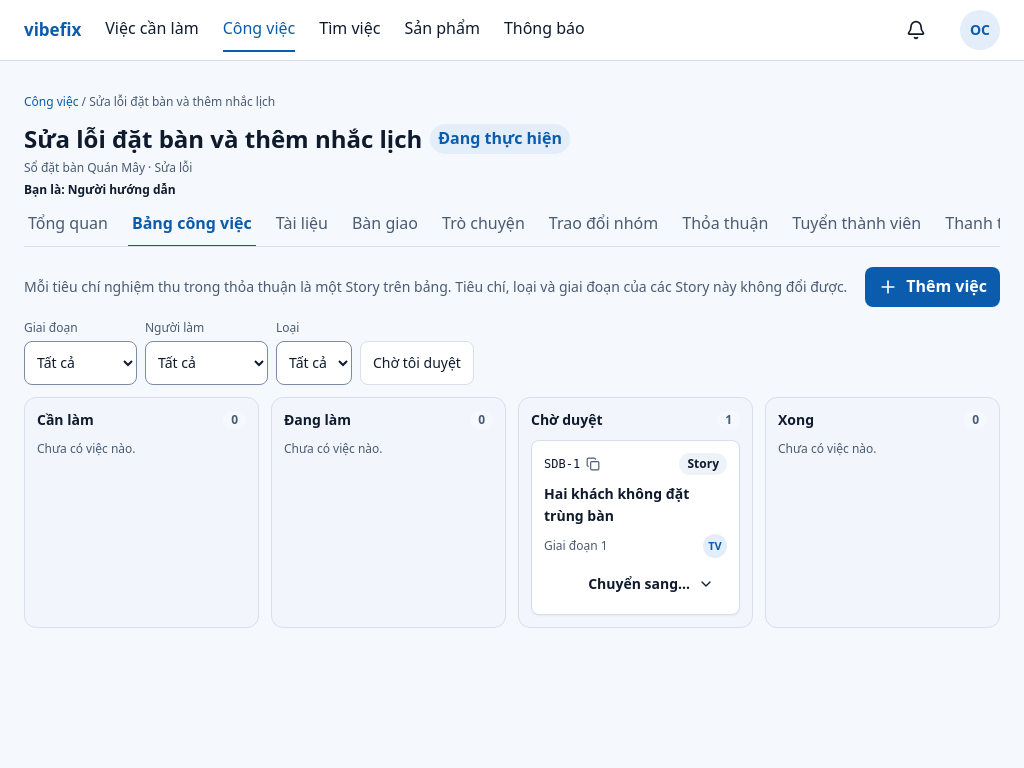
The Review Gate on JOB-2 (FR-25, AD-39, UX-DR38) › shows the Mentor the answers and needs a comment to return or approve
Click the button with aria-label "Chuyển SDB-1 sang…": (651, 584) [575,566,727,602]
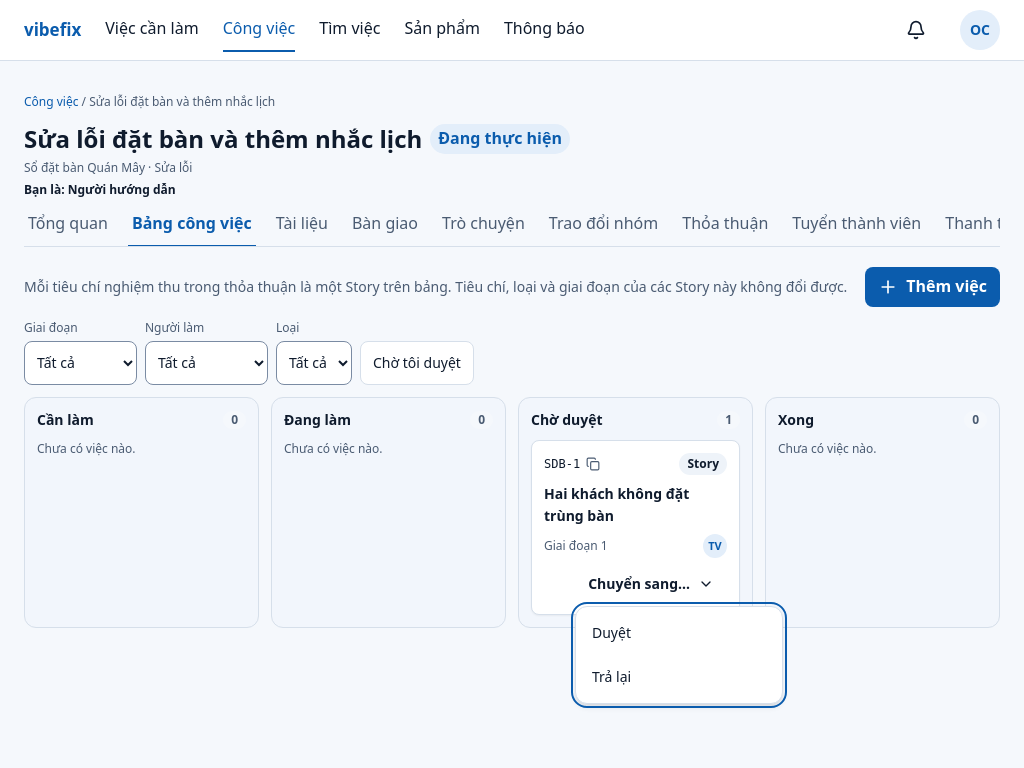
Click the menu item "Trả lại": (612, 677) [592,667,631,686]
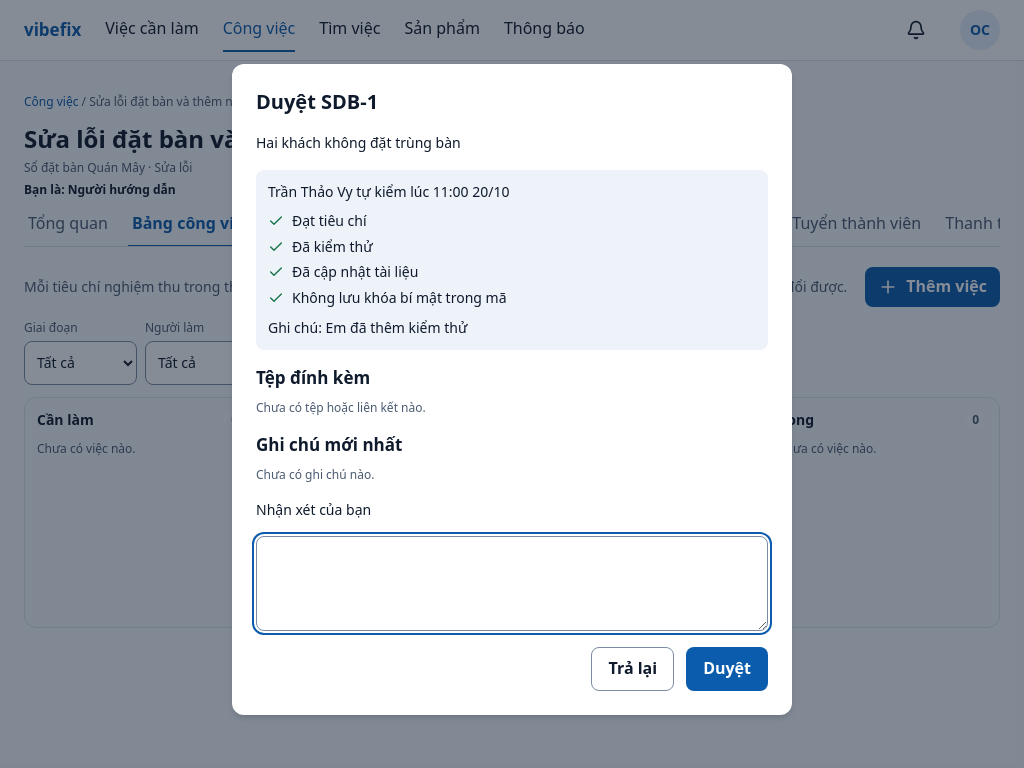
Check: the heading "Trần Thảo Vy tự kiểm lúc 11:00 20/10" is shown, box [268,182,510,201]
Check: the text "Ghi chú: Em đã thêm kiểm thử" is shown, box [268,318,467,337]
Click the button "Duyệt": (727, 669) [686,647,768,691]
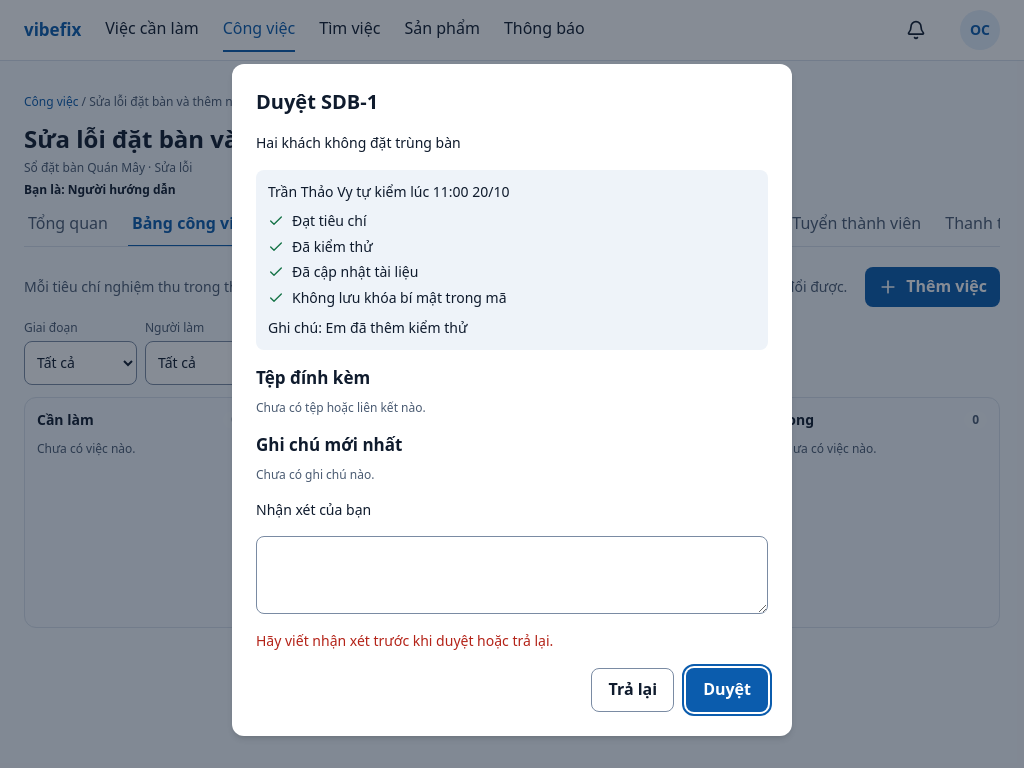
Check: the message reads "Hãy viết nhận xét trước khi duyệt hoặc trả lại.", box [256,631,553,650]
In the text box labelled "Nhận xét của bạn": (512, 575) [256,536,768,614], type "Thêm kiểm thử xóa đơn"
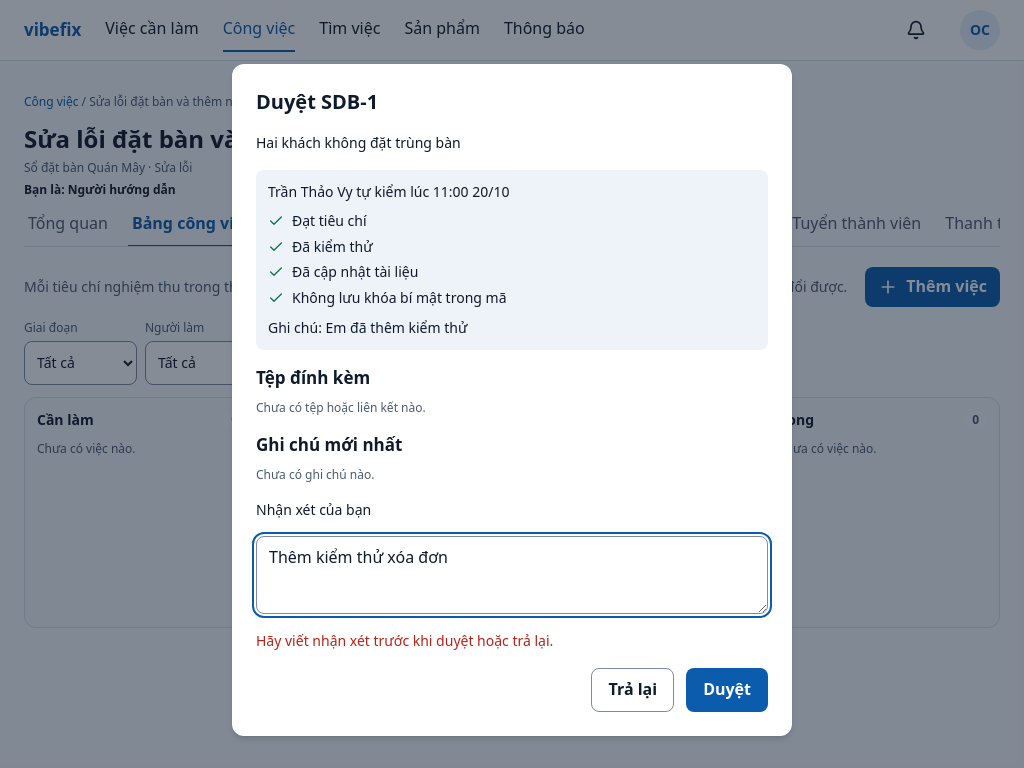
Click the button "Trả lại": (633, 690) [592,668,674,712]
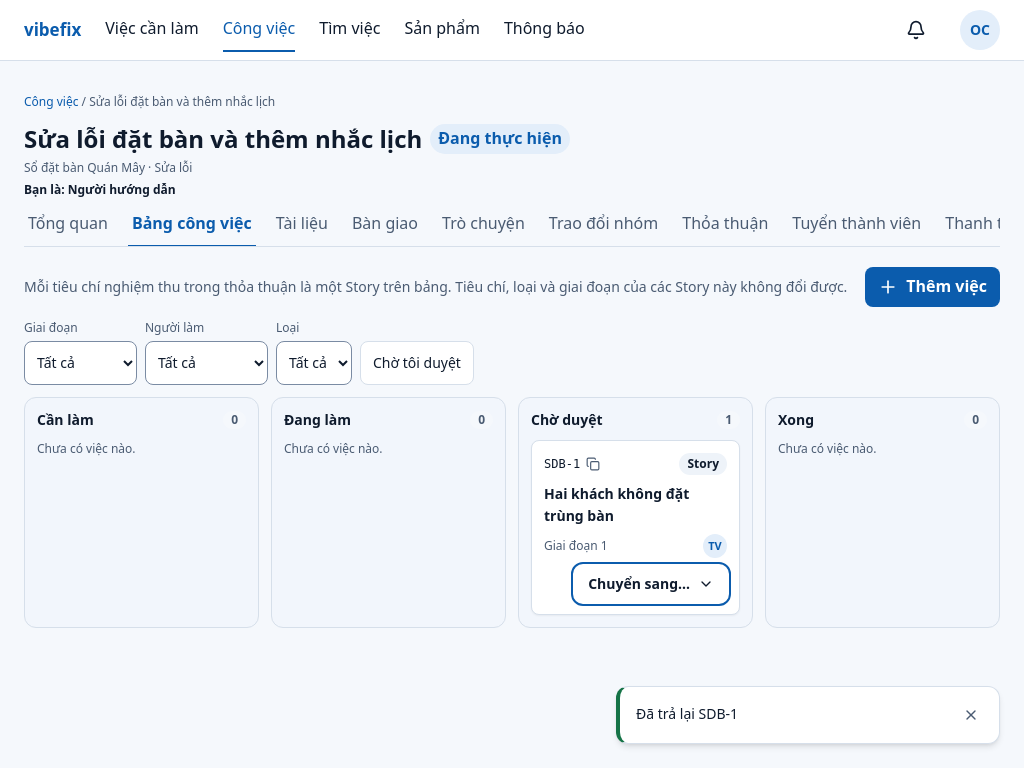
Check: the heading "Đã trả lại SDB-1" is shown, box [636,704,738,723]
